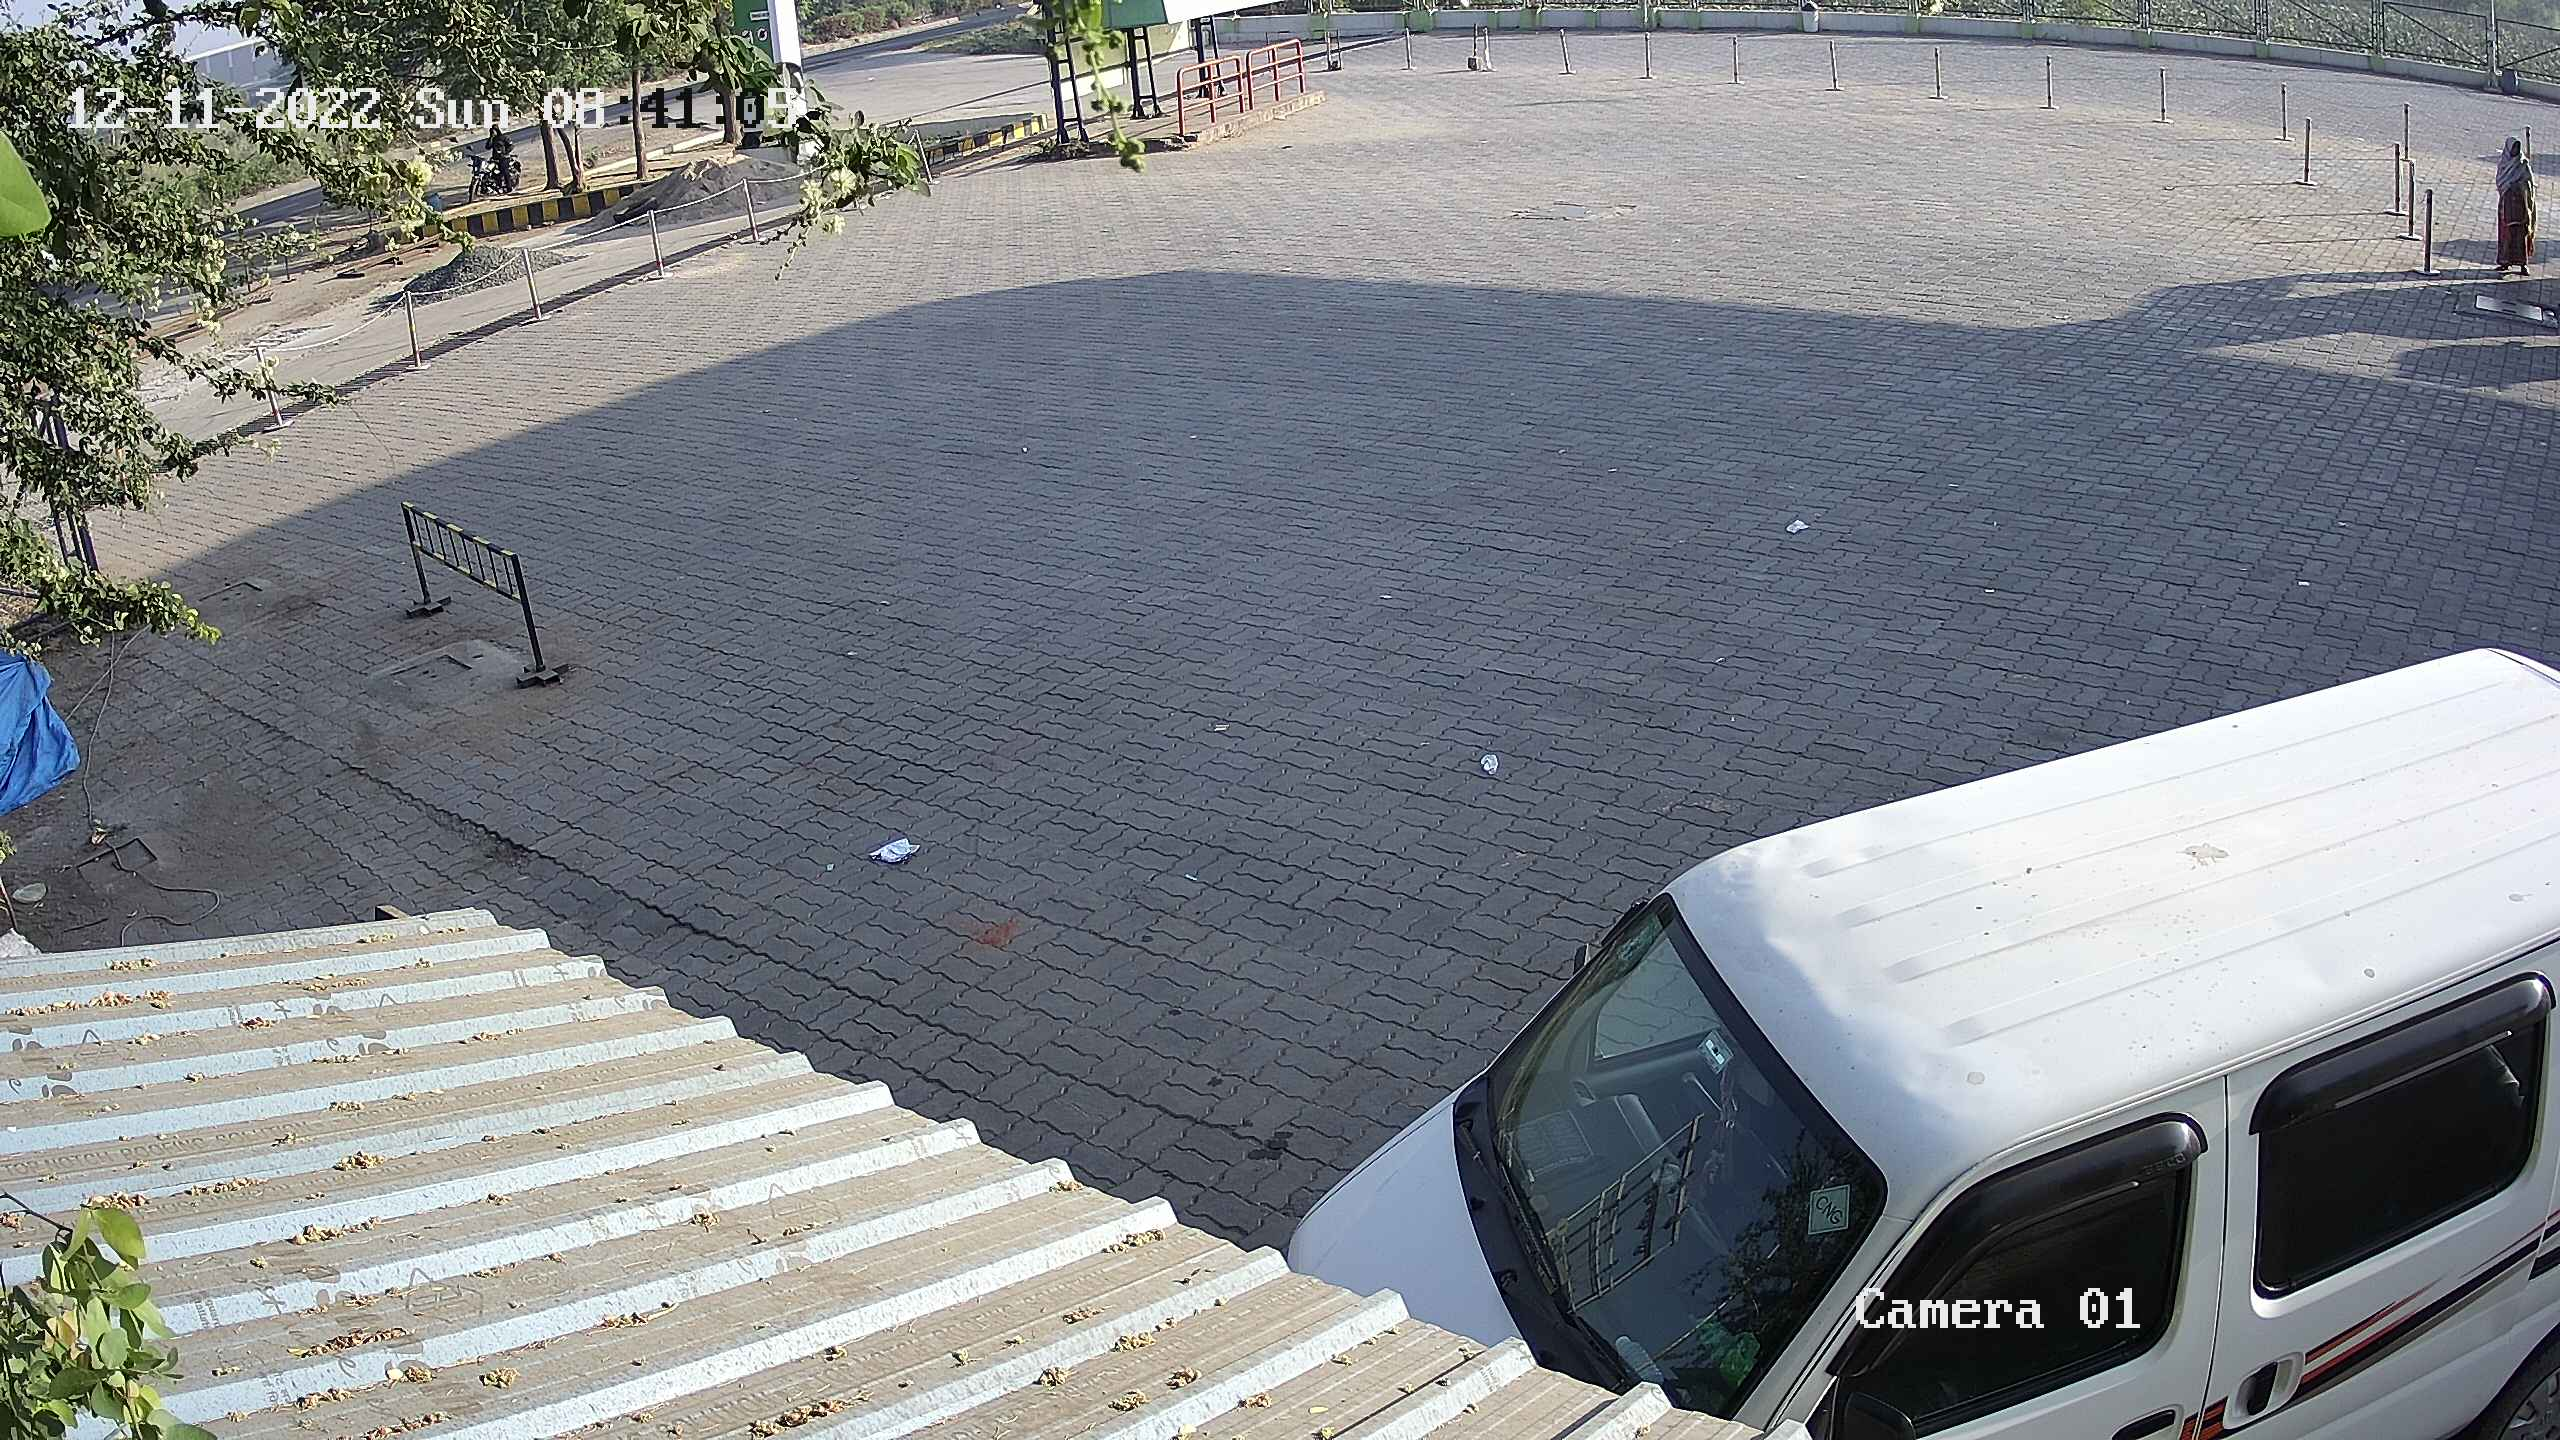Car: (1257, 621, 2556, 1435)
